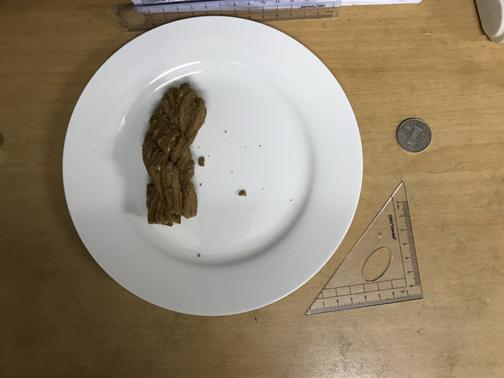coin: (395, 116, 431, 153)
fired_dough_twist: (140, 84, 207, 224)
